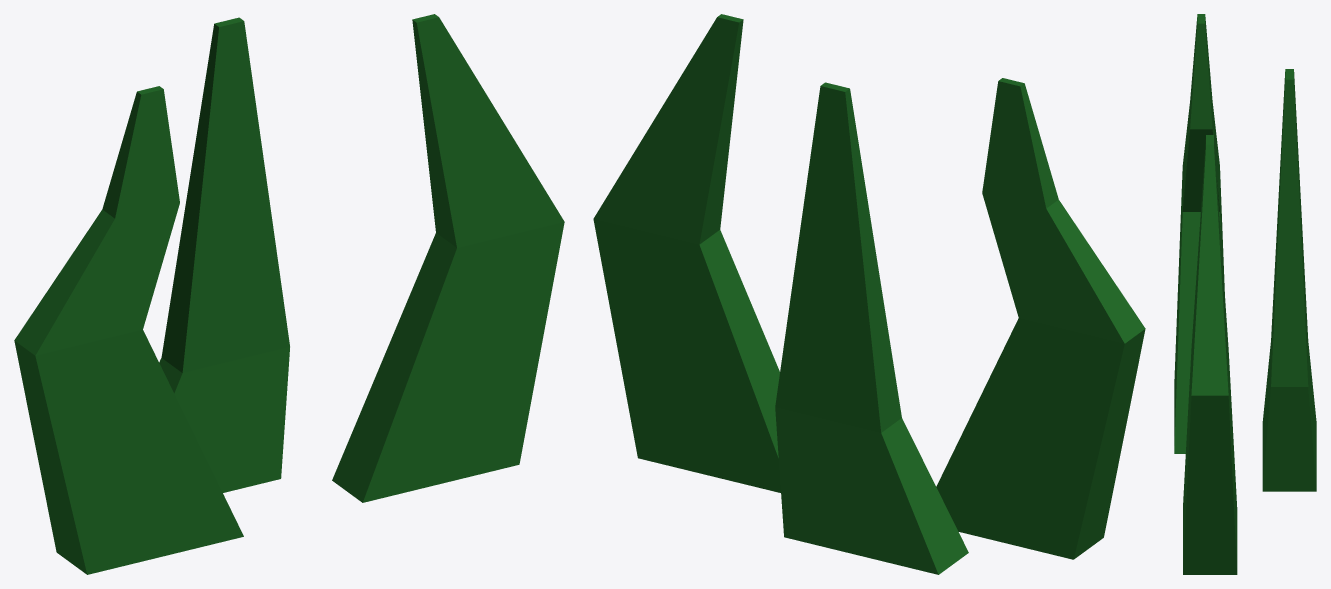
File: Grass1.fbx
The picture shows the model from 3 angles, left to right: view 1: azimuth 30°, elevation 25°; view 2: azimuth 150°, elevation 25°; view 3: azimuth 270°, elevation 25°; orthographic projection. The views are drawn at different scales.
Visible parts, largest first — view 1: Cube; view 2: Cube; view 3: Cube.
Part boxes in pixels (box(x1,y1,x2,y2)): Cube: box(14, 14, 564, 574); Cube: box(593, 14, 1145, 574); Cube: box(1174, 14, 1316, 574).
Bounding box in the file's own units: 265 × 215 × 69.23.
